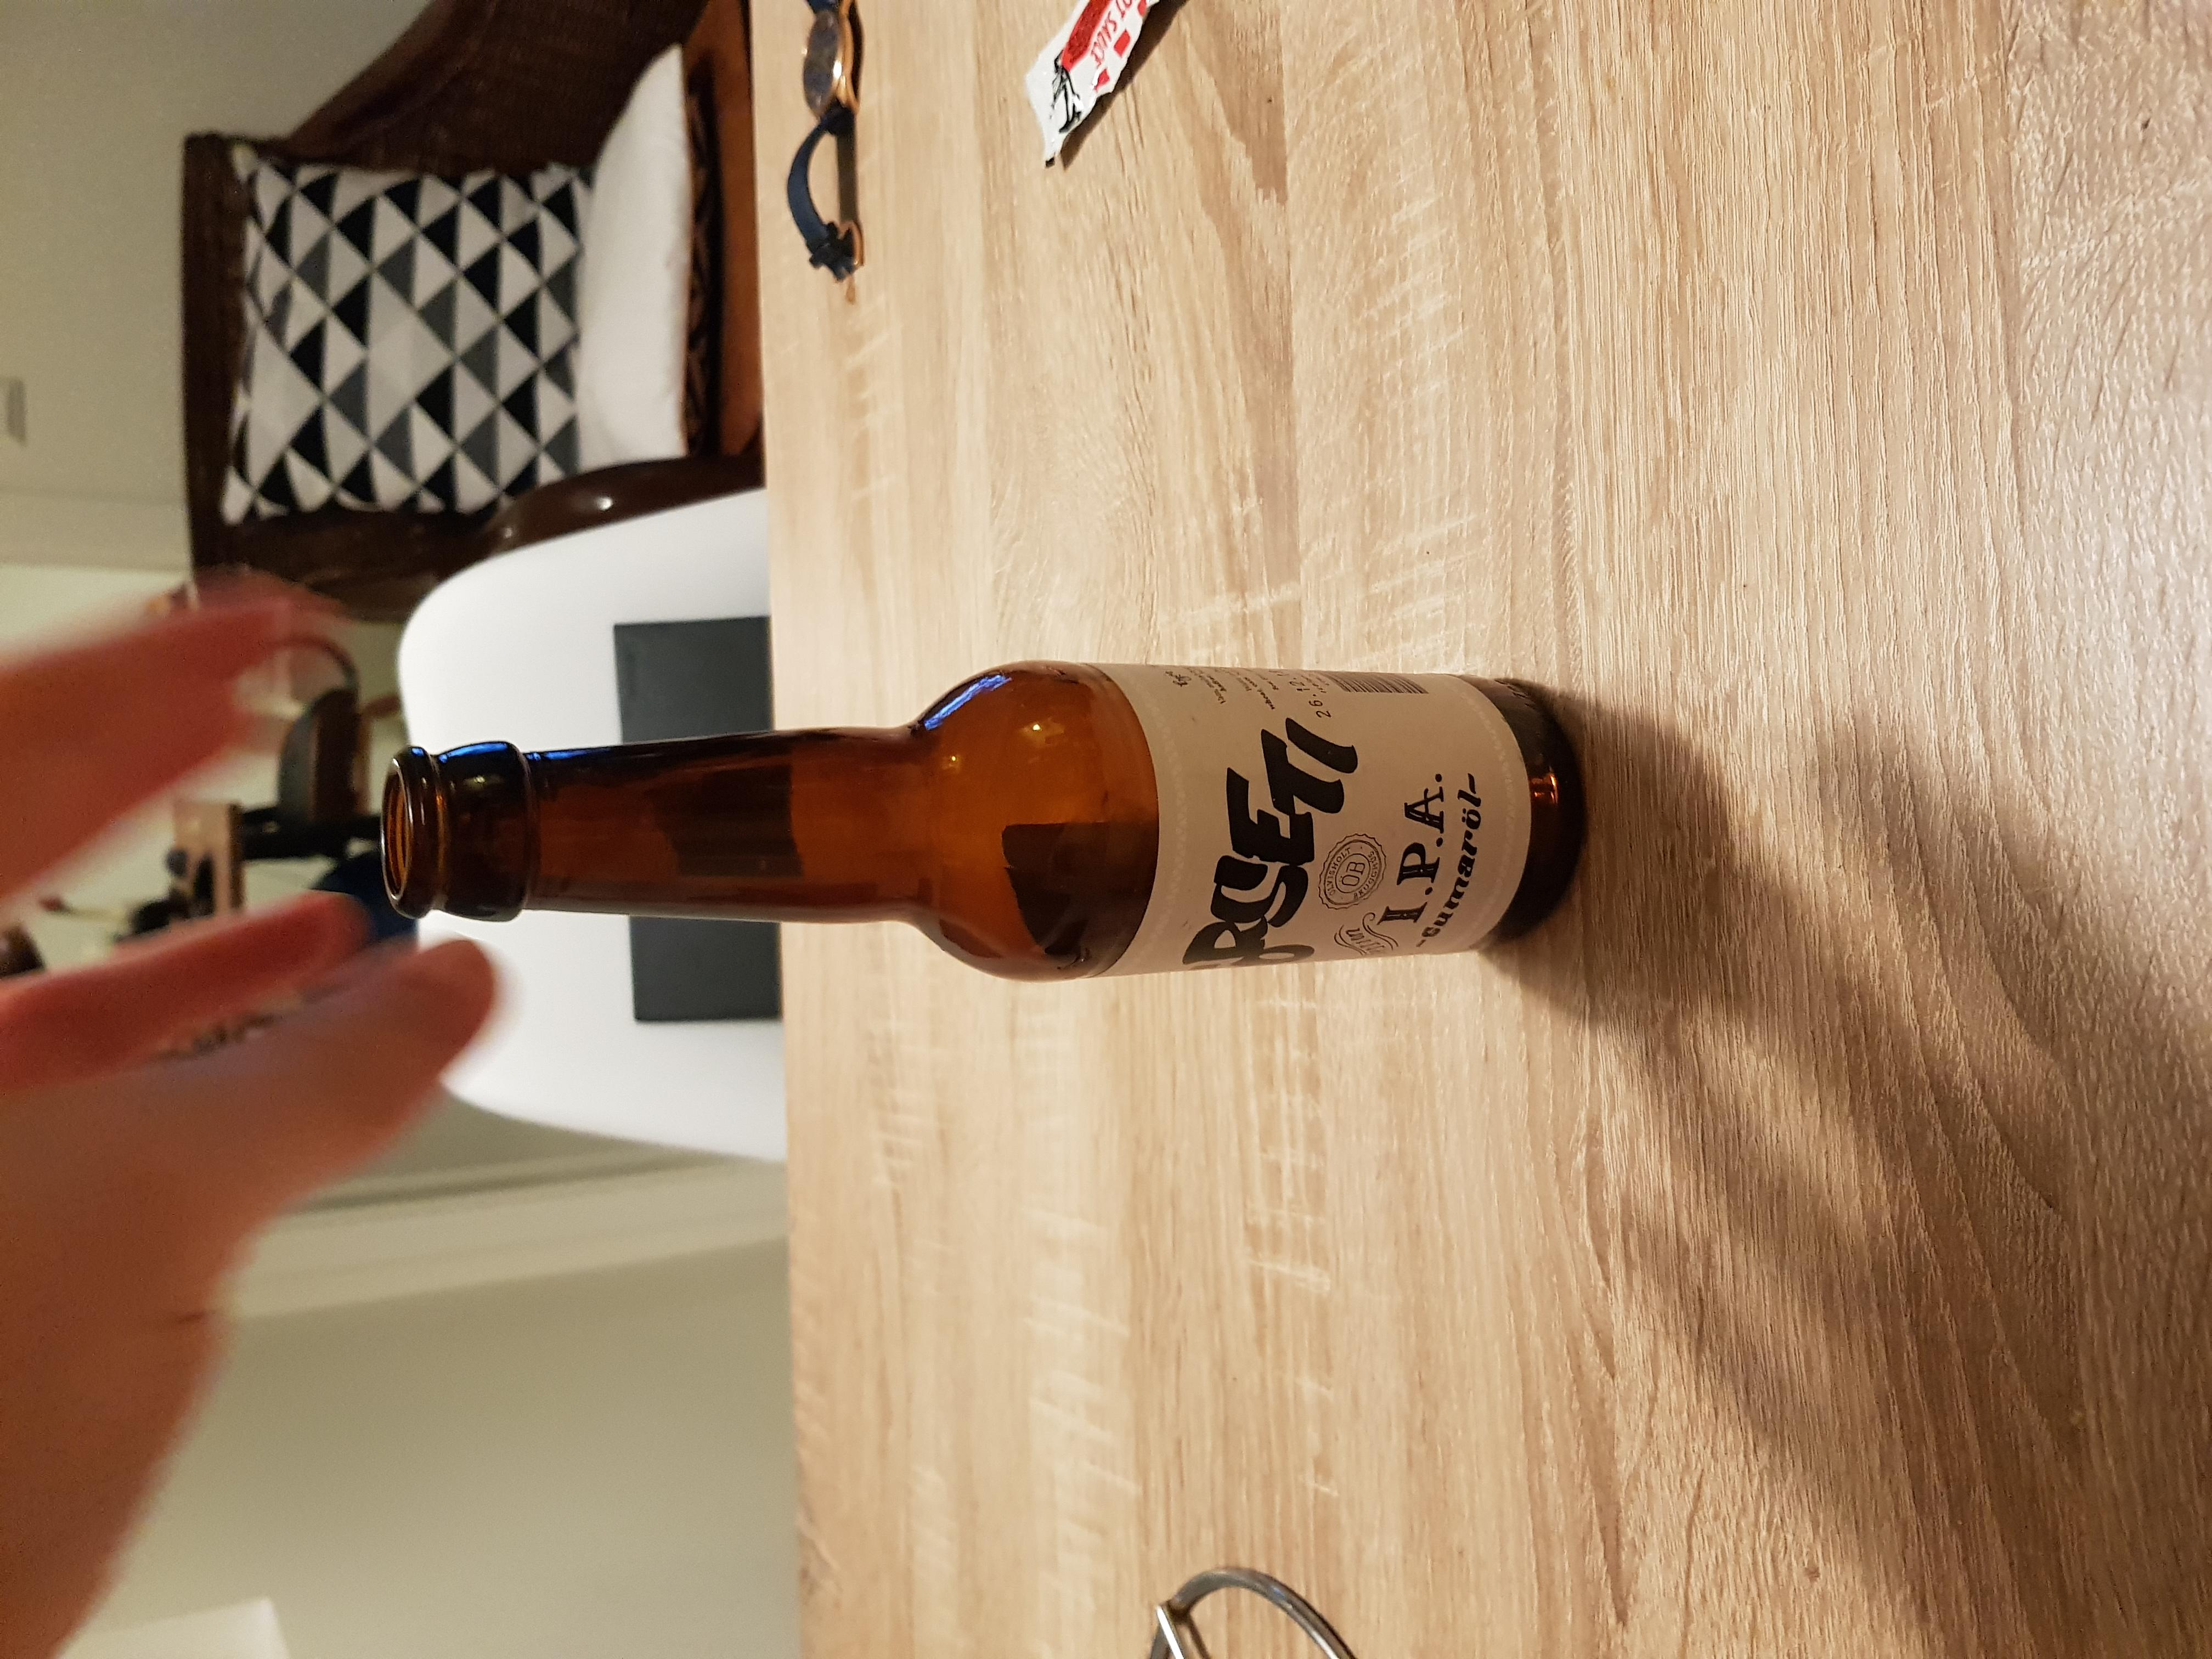Bottle: (387, 664, 1571, 983)
